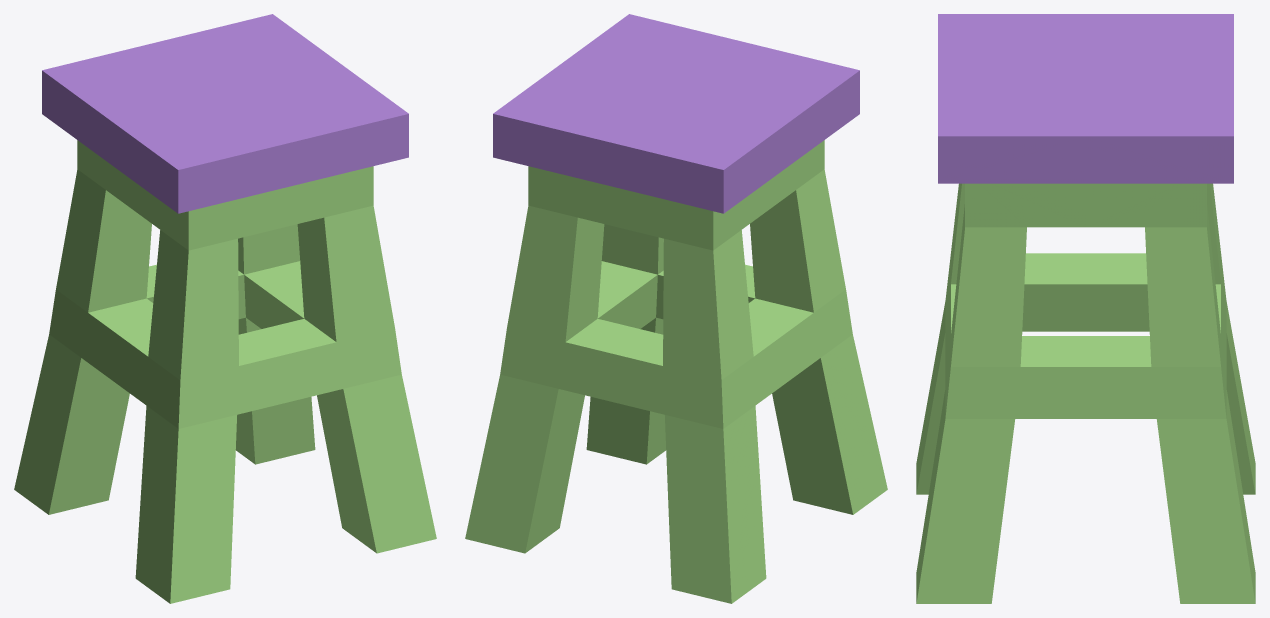
The model's file is Stool.glb.
3 views of the same model, side by side, from view 1: azimuth 30°, elevation 25°; view 2: azimuth 150°, elevation 25°; view 3: azimuth 270°, elevation 25° (orthographic). The views are drawn at different scales.
Visible parts, largest first — view 1: Stool_0, Stool_1; view 2: Stool_0, Stool_1; view 3: Stool_0, Stool_1.
Boxes of the visible parts, x1,y1,x2,y2 form: Stool_0: (14,140,436,603); Stool_1: (42,14,408,213); Stool_0: (465,140,887,603); Stool_1: (493,14,859,213); Stool_0: (916,183,1255,603); Stool_1: (938,14,1233,183).
Size of the model in its own units: 0.361 by 0.5463 by 0.3663.
